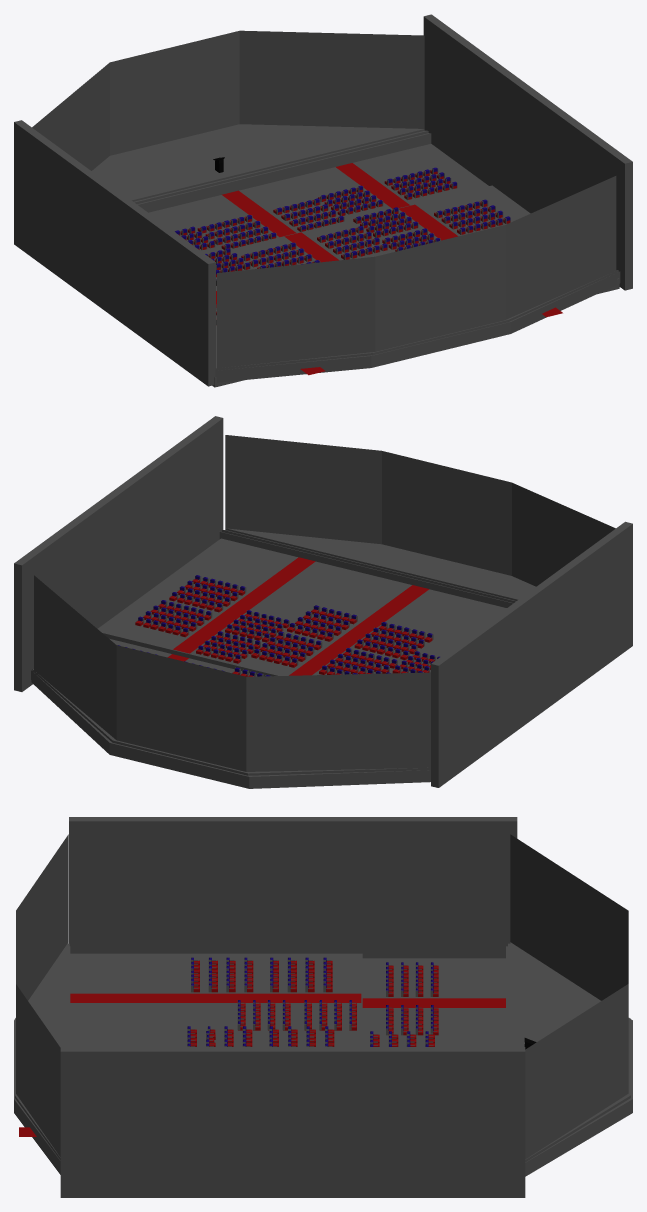
File: theatreArena.fbx
3 renders of one model, top to bottom at view 1: azimuth 30°, elevation 25°; view 2: azimuth 150°, elevation 25°; view 3: azimuth 270°, elevation 25°, orthographic. The views are drawn at different scales.
Parts seen in each view (by area): view 1: Cube.159, Cube.161, Cube, Cube.164, Plane.006, Plane, Cube.165, Cube.162, Plane.001, Plane.012, Plane.013, Plane.002; view 2: Cube.159, Cube.161, Cube, Cube.164, Cube.165, Cube.162, Plane.013, Plane.002, Cube.163, Plane.006; view 3: Cube.164, Cube, Cube.159, Cube.163, Cube.161, Plane.005, Cube.162, Plane.010, Plane, Plane.011.
Boxes of the visible parts, x1=… form: Cube.159: x1=32, y1=30, x2=431, y2=212; Cube.161: x1=215, y1=176, x2=620, y2=382; Cube: x1=14, y1=120, x2=215, y2=386; Cube.164: x1=423, y1=14, x2=632, y2=290; Plane.006: x1=297, y1=144, x2=488, y2=219; Plane: x1=158, y1=176, x2=352, y2=252; Cube.165: x1=362, y1=185, x2=619, y2=294; Cube.162: x1=229, y1=219, x2=397, y2=269; Plane.001: x1=222, y1=190, x2=296, y2=237; Plane.012: x1=336, y1=163, x2=409, y2=208; Plane.013: x1=399, y1=204, x2=562, y2=317; Plane.002: x1=284, y1=232, x2=338, y2=262; Cube.159: x1=31, y1=575, x2=430, y2=788; Cube.161: x1=219, y1=435, x2=615, y2=607; Cube: x1=431, y1=521, x2=632, y2=787; Cube.164: x1=14, y1=416, x2=223, y2=691; Cube.165: x1=98, y1=538, x2=355, y2=667; Cube.162: x1=229, y1=571, x2=490, y2=676; Plane.013: x1=173, y1=557, x2=315, y2=653; Plane.002: x1=289, y1=585, x2=429, y2=675; Cube.163: x1=400, y1=604, x2=506, y2=673; Plane.006: x1=31, y1=638, x2=231, y2=681; Cube.164: x1=60, y1=1047, x2=525, y2=1197; Cube: x1=69, y1=817, x2=517, y2=958; Cube.159: x1=506, y1=834, x2=632, y2=1176; Cube.163: x1=70, y1=953, x2=362, y2=1028; Cube.161: x1=14, y1=834, x2=70, y2=1174; Plane.005: x1=362, y1=958, x2=505, y2=1032; Cube.162: x1=70, y1=1029, x2=362, y2=1046; Plane.010: x1=70, y1=993, x2=361, y2=1002; Plane: x1=362, y1=1032, x2=505, y2=1046; Plane.011: x1=362, y1=998, x2=505, y2=1007.
Size of the model in its own units: 10790 by 3108 by 11902.
